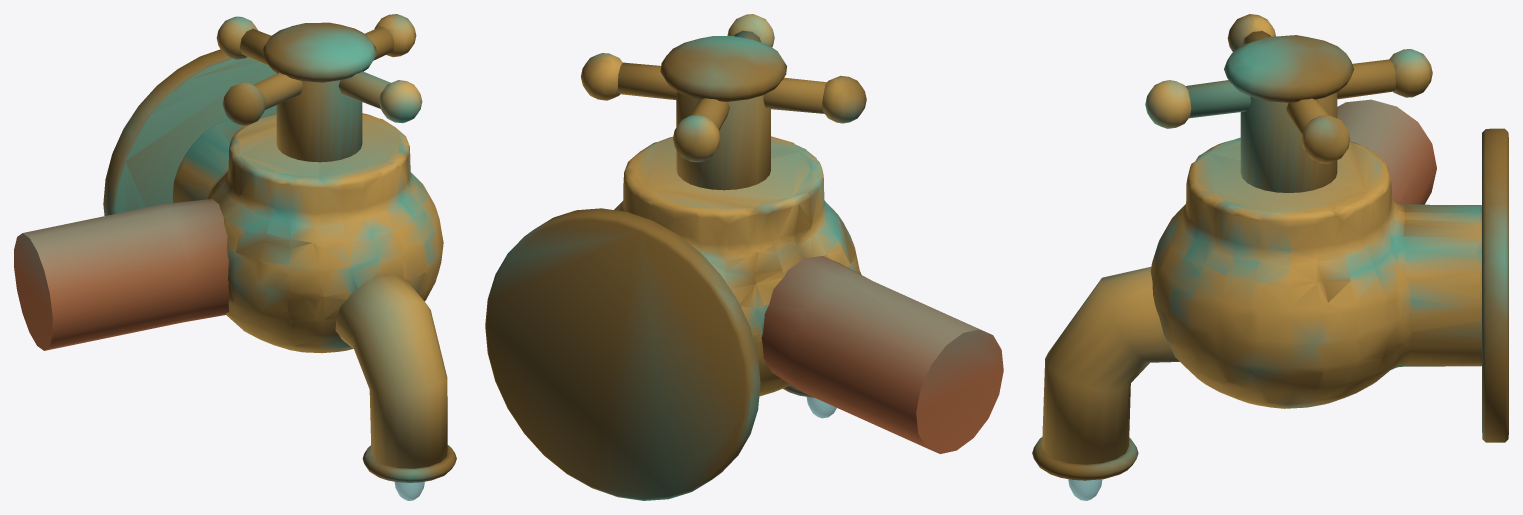
Rendered from grotto_spigot_lod1.glb.
The picture shows the model from 3 angles, left to right: view 1: azimuth 30°, elevation 25°; view 2: azimuth 150°, elevation 25°; view 3: azimuth 270°, elevation 25°; orthographic projection. The views are drawn at different scales.
Parts seen in each view (by area): view 1: grotto_spigot.001; view 2: grotto_spigot.001; view 3: grotto_spigot.001.
Part boxes in pixels (bbox=[...]): grotto_spigot.001: bbox=[14, 14, 456, 500]; grotto_spigot.001: bbox=[485, 14, 1003, 500]; grotto_spigot.001: bbox=[1032, 14, 1508, 500].
Size of the model in its own units: 9.15 by 9.17 by 8.78.
